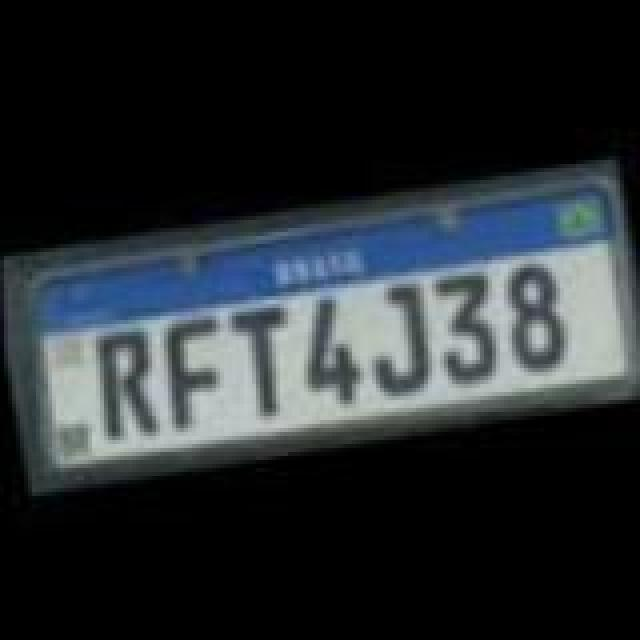3: (418, 260, 506, 384)
4: (286, 280, 366, 416)
8: (490, 250, 578, 370)
F: (152, 304, 240, 428)
J: (348, 274, 440, 402)
R: (80, 320, 160, 444)
T: (216, 300, 304, 424)
